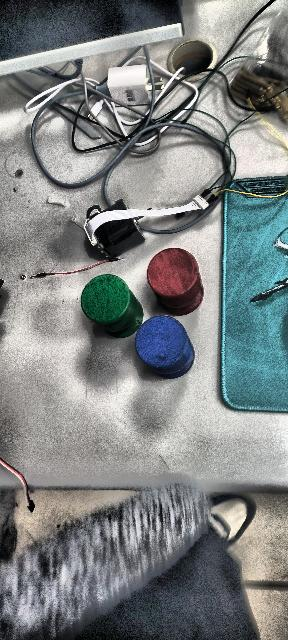blue: (135, 315, 195, 379)
green: (81, 274, 143, 338)
red: (147, 252, 206, 316)
